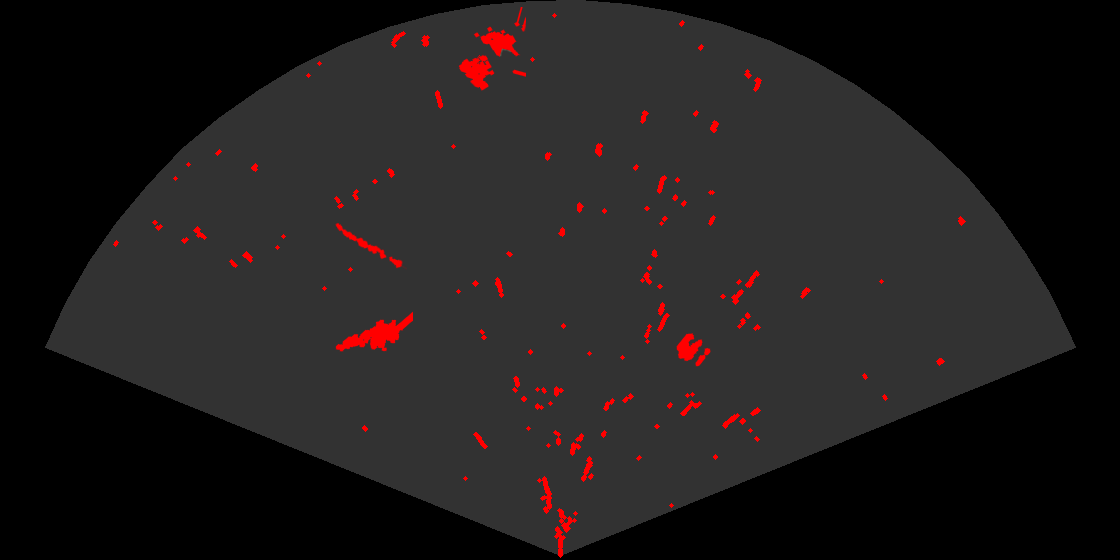ball: (675, 332, 712, 368)
cage: (457, 7, 526, 92)
chain: (334, 221, 407, 271)
frogman: (334, 310, 413, 353)
